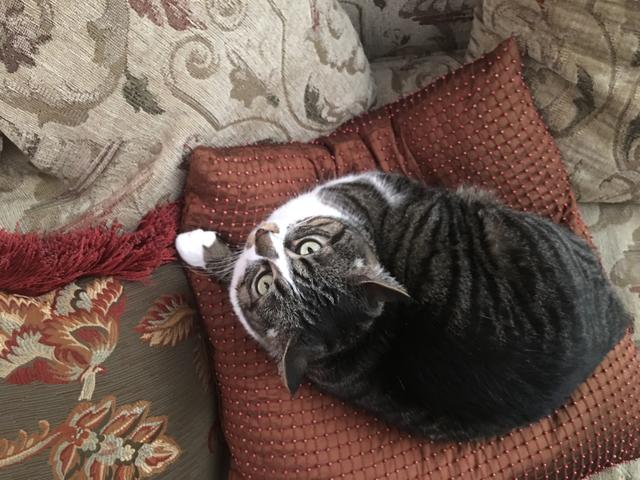playdoh: (173, 170, 624, 440)
